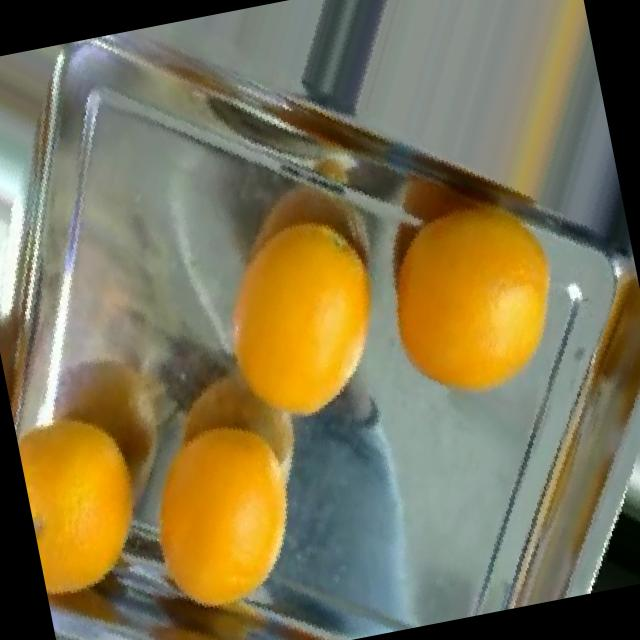Fruit: (108, 391, 335, 640), (554, 486, 640, 597)
